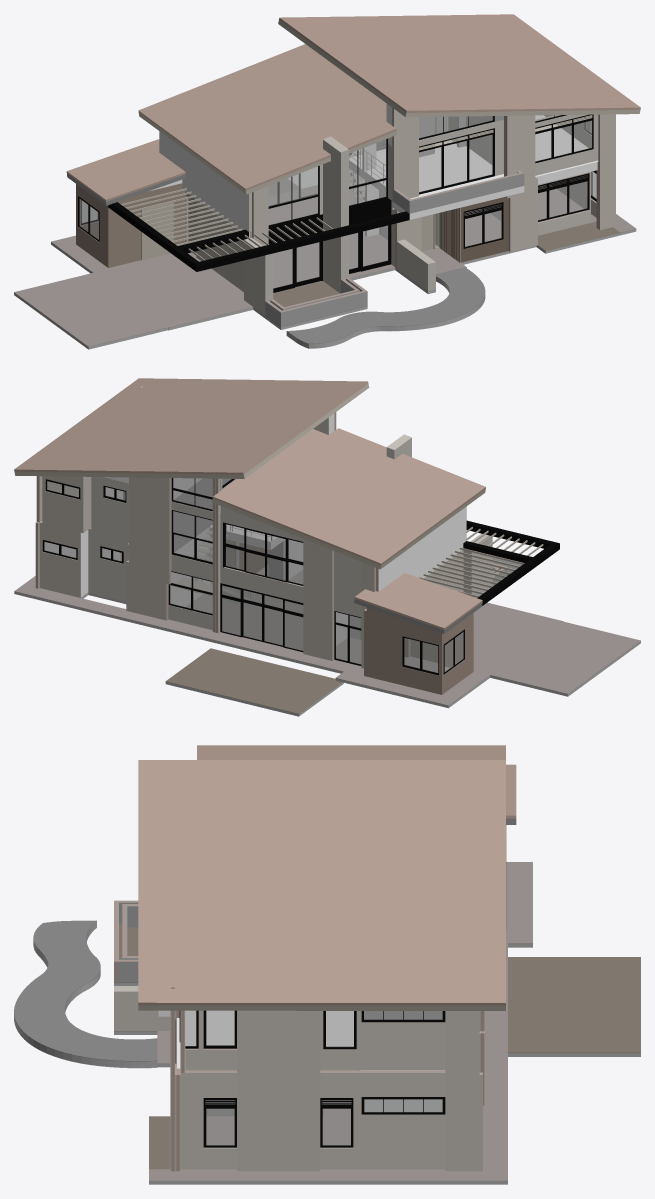
The model's file is core.glb.
3 renders of one model, top to bottom at view 1: azimuth 30°, elevation 25°; view 2: azimuth 150°, elevation 25°; view 3: azimuth 270°, elevation 25°, orthographic. The views are drawn at different scales.
Parts seen in each view (by area): view 1: IfcBuildingElementPart/GENÉRICO - MEMBRANA EXTENDIDA, IfcBuildingElementPart/GENÉRICO - MEMBRANA EXTENDIDA.001, IfcBuildingElementPart/Baldosa - Pavimento.004, IfcSlab/FOR - 003.001, IfcBuildingElementPart/Baldosa - Pavimento, IfcBuildingElementPart/GENÉRICO - MEMBRANA EXTENDIDA.002, IfcWindow/V - 001.014, IfcWall/MS-062, IfcBuildingElementPart/Enlucido - Yeso.197, IfcBuildingElementPart/Enlucido - Yeso.103, IfcBeam/Viga-001, IfcWindow/V - 001.010 (+44 smaller); view 2: IfcBuildingElementPart/GENÉRICO - MEMBRANA EXTENDIDA, IfcBuildingElementPart/GENÉRICO - MEMBRANA EXTENDIDA.001, IfcBuildingElementPart/Baldosa - Pavimento.004, IfcBuildingElementPart/Baldosa - Pavimento.002, IfcBuildingElementPart/Enlucido - Yeso.099, IfcBuildingElementPart/GENÉRICO - MEMBRANA EXTENDIDA.002, IfcBuildingElementPart/Enlucido - Yeso.087, IfcDoor/P - 009.003, IfcBuildingElementPart/Enlucido - Yeso.197, IfcDoor/P - 009.005, IfcBuildingElementPart/Enlucido - Yeso.038, IfcBuildingElementPart/Enlucido - Yeso.023 (+42 smaller); view 3: IfcBuildingElementPart/GENÉRICO - MEMBRANA EXTENDIDA, IfcBuildingElementPart/Enlucido - Yeso.069, IfcBuildingElementPart/Enlucido - Yeso.085, IfcBuildingElementPart/Baldosa - Pavimento.004, IfcBuildingElementPart/Baldosa - Pavimento.002, IfcBuildingElementPart/Baldosa - Pavimento, IfcBuildingElementPart/Enlucido - Yeso.259, IfcBuildingElementPart/Enlucido - Yeso.068, IfcBuildingElementPart/GENÉRICO - MEMBRANA EXTENDIDA.001, IfcSlab/FOR - 003.001, IfcBuildingElementPart/GENÉRICO - PREFABRICADO, IfcWall/MS-063 (+13 smaller).
Boxes of the visible parts, x1,y1,x2,y2 form: IfcBuildingElementPart/GENÉRICO - MEMBRANA EXTENDIDA: (279,14,640,112); IfcBuildingElementPart/GENÉRICO - MEMBRANA EXTENDIDA.001: (138,44,396,190); IfcBuildingElementPart/Baldosa - Pavimento.004: (14,184,636,346); IfcSlab/FOR - 003.001: (349,115,598,209); IfcBuildingElementPart/Baldosa - Pavimento: (287,267,485,343); IfcBuildingElementPart/GENÉRICO - MEMBRANA EXTENDIDA.002: (66,139,185,201); IfcWindow/V - 001.014: (419,128,494,194); IfcWall/MS-062: (323,136,348,293); IfcBuildingElementPart/Enlucido - Yeso.197: (159,131,249,237); IfcBuildingElementPart/Enlucido - Yeso.103: (109,183,185,267); IfcBeam/Viga-001: (196,211,409,271); IfcWindow/V - 001.010: (535,114,593,163); IfcBuildingElementPart/GENÉRICO - MEMBRANA EXTENDIDA: (14,378,368,474); IfcBuildingElementPart/GENÉRICO - MEMBRANA EXTENDIDA.001: (212,428,485,565); IfcBuildingElementPart/Baldosa - Pavimento.004: (14,565,640,705); IfcBuildingElementPart/Baldosa - Pavimento.002: (165,648,341,713); IfcBuildingElementPart/Enlucido - Yeso.099: (364,610,442,694); IfcBuildingElementPart/GENÉRICO - MEMBRANA EXTENDIDA.002: (354,573,482,629); IfcBuildingElementPart/Enlucido - Yeso.087: (303,539,332,660); IfcDoor/P - 009.003: (220,595,303,652); IfcBuildingElementPart/Enlucido - Yeso.197: (378,507,466,591); IfcDoor/P - 009.005: (222,598,302,650); IfcBuildingElementPart/Enlucido - Yeso.038: (40,522,80,597); IfcBuildingElementPart/Enlucido - Yeso.023: (91,477,128,548); IfcBuildingElementPart/GENÉRICO - MEMBRANA EXTENDIDA: (138,760,505,1005); IfcBuildingElementPart/Enlucido - Yeso.069: (237,1010,320,1171); IfcBuildingElementPart/Enlucido - Yeso.085: (180,1072,445,1169); IfcBuildingElementPart/Baldosa - Pavimento.004: (114,862,532,1180); IfcBuildingElementPart/Baldosa - Pavimento.002: (508,957,640,1052); IfcBuildingElementPart/Baldosa - Pavimento: (14,920,157,1061); IfcBuildingElementPart/Enlucido - Yeso.259: (185,1010,445,1070); IfcBuildingElementPart/Enlucido - Yeso.068: (445,1011,482,1171); IfcBuildingElementPart/GENÉRICO - MEMBRANA EXTENDIDA.001: (197,745,505,759); IfcSlab/FOR - 003.001: (177,1010,353,1068); IfcBuildingElementPart/GENÉRICO - PREFABRICADO: (138,1005,505,1010); IfcWall/MS-063: (114,986,170,1030).
Bounding box in the file's own units: 26.7 × 9.09 × 18.85.
